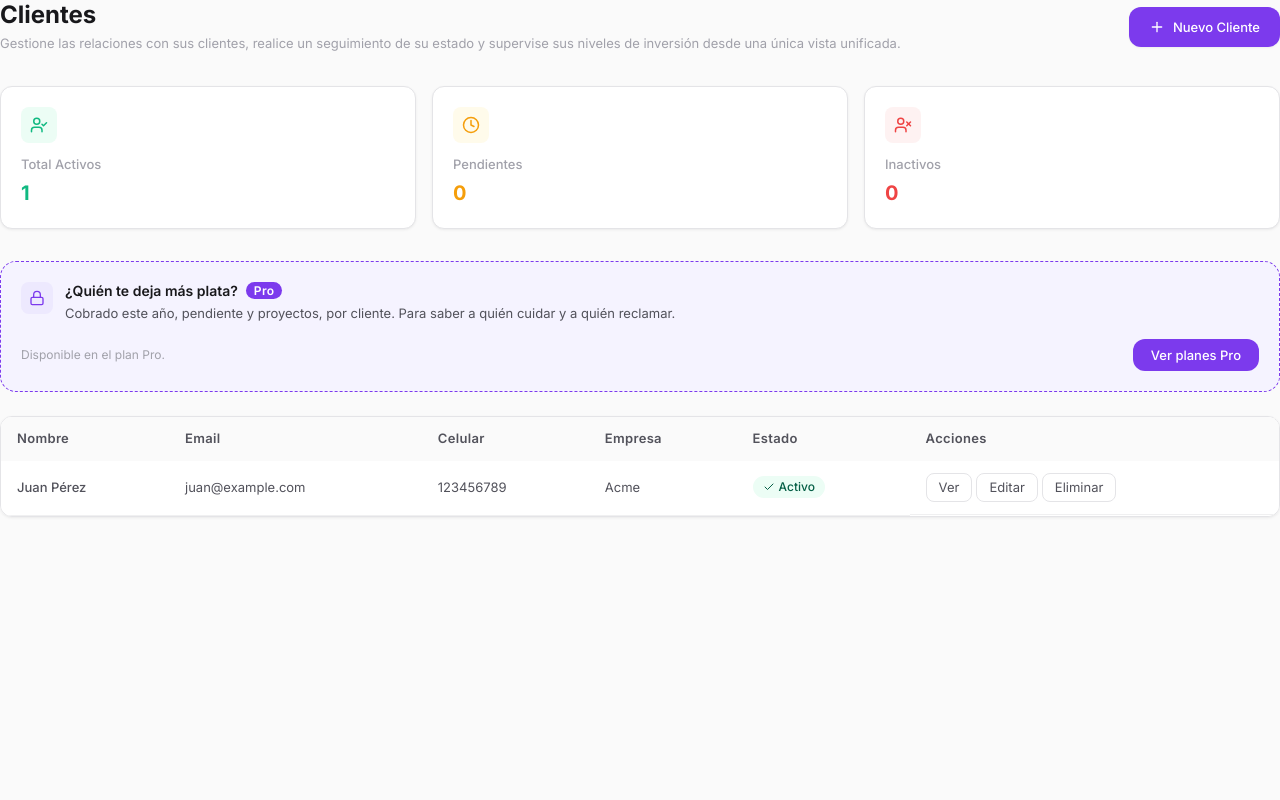
it: ClientsPage — delete failure messages › shows the FK-specific message when deleteClient rejects with ForeignKeyViolationError
Click the button "Eliminar" at [1079, 487], box [1042,472,1116,502]
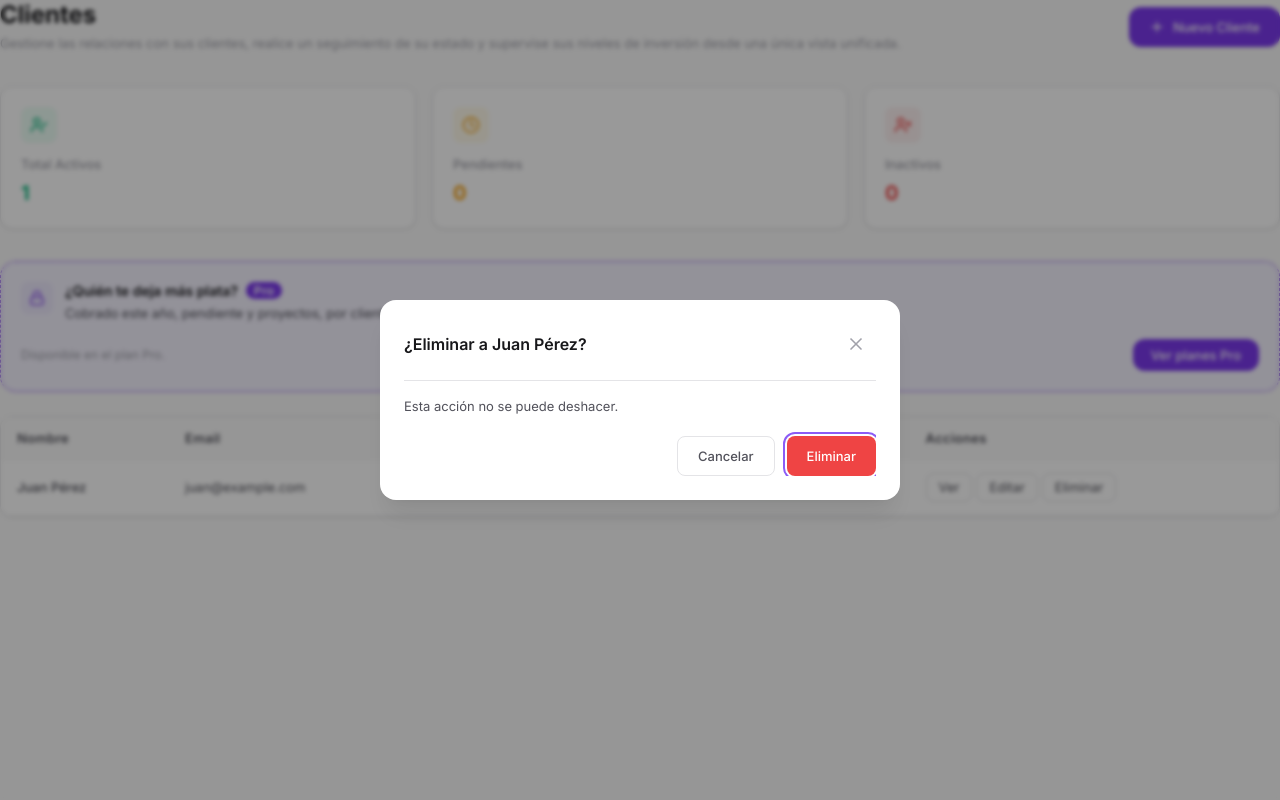
Click the button "Eliminar" at [831, 456], box [786,436,876,476]
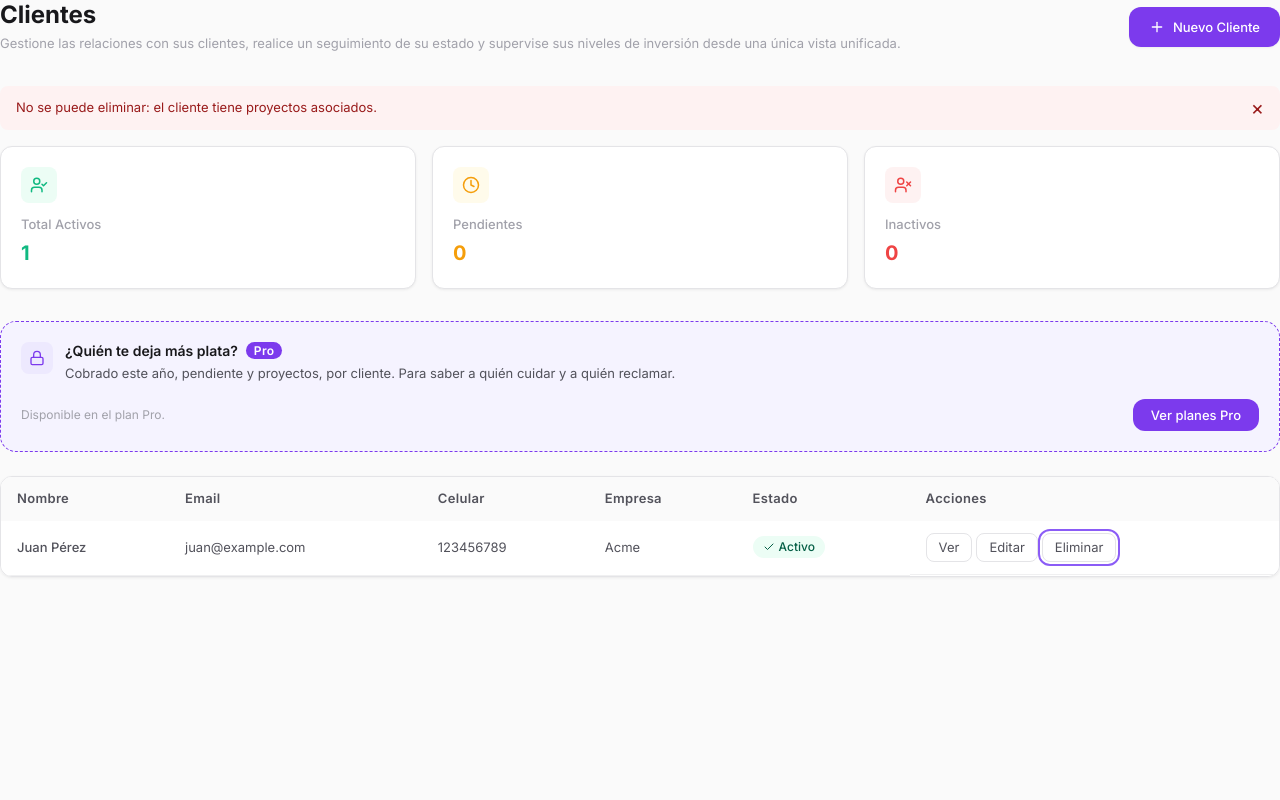
Expected: the text "No se puede eliminar: el cliente tiene proyectos asociados." is shown, [16,98,377,117]
